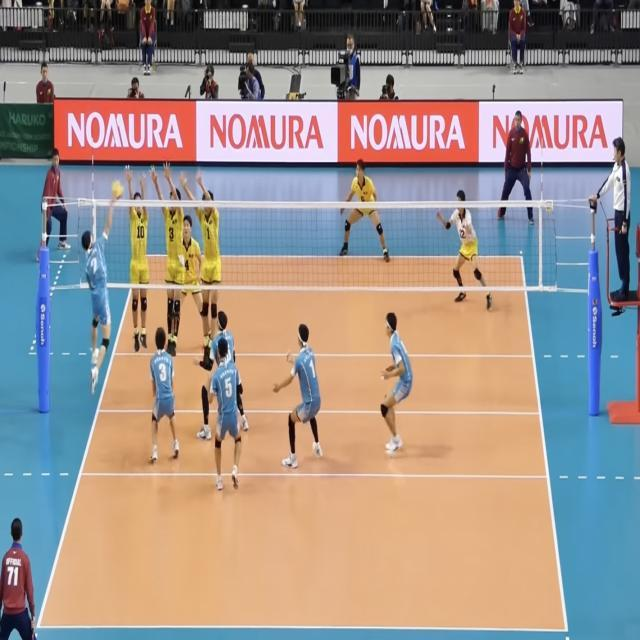spike: (80, 174, 126, 401)
